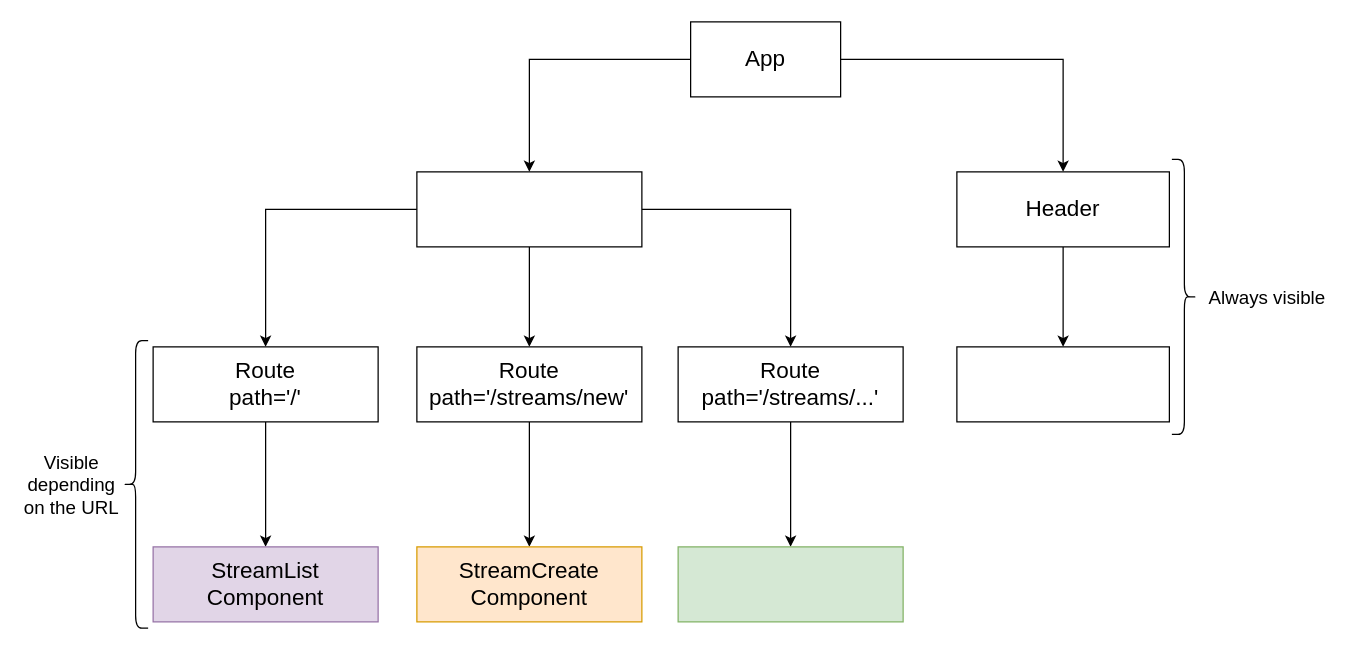
Image size: 1363x650. Some labels were removed from this diagram. Each missing label, with the centre of its shape:
"BrowserRouter" belongs at point 529,209.
"LoginButton" belongs at point 1062,384.
"Stream... Component" belongs at point 790,584.
